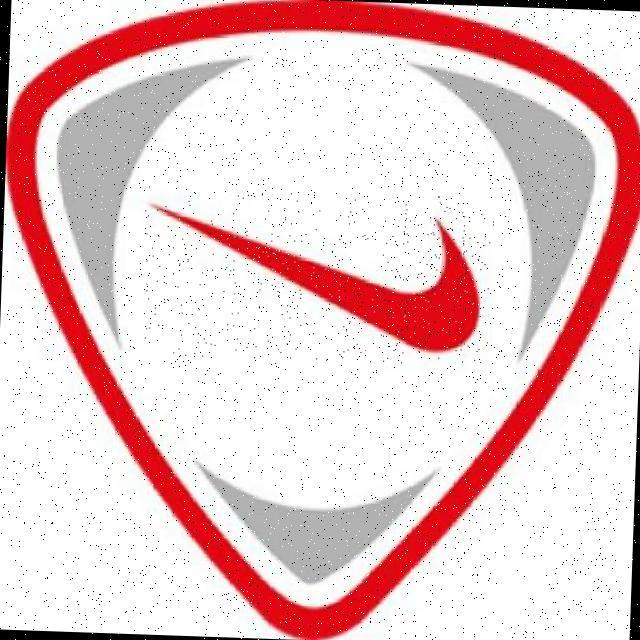Nike: (140, 186, 495, 366)
